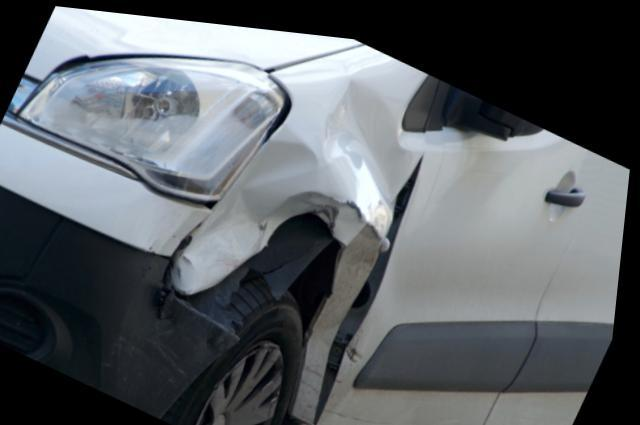dent: (176, 71, 416, 277)
